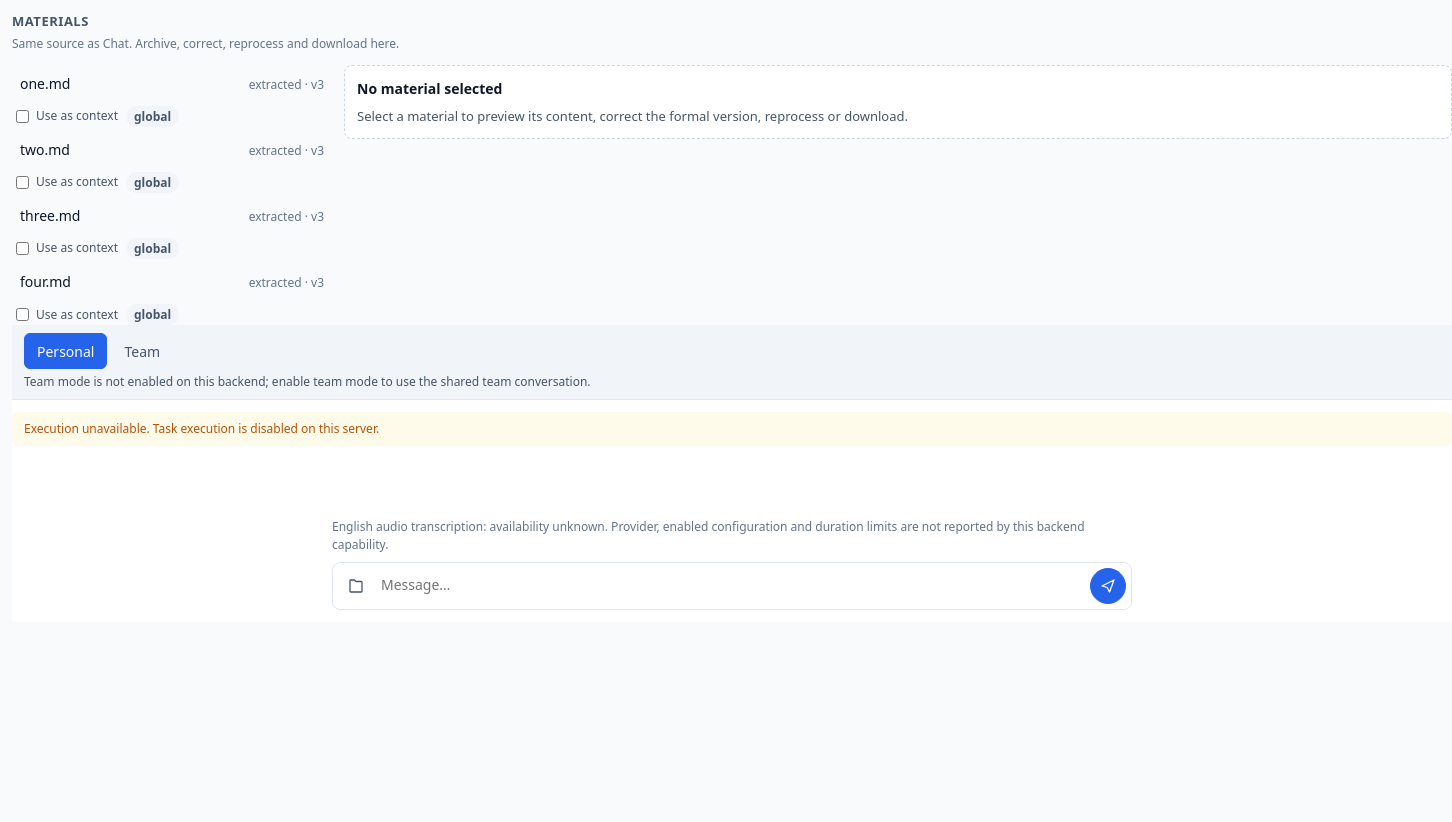
LG-204 Tasks material selection › enforces the shared 3-source limit across the Tasks entry
Click the 1st checkbox labelled "Use as context": (22, 116) 16,110 -> 29,123
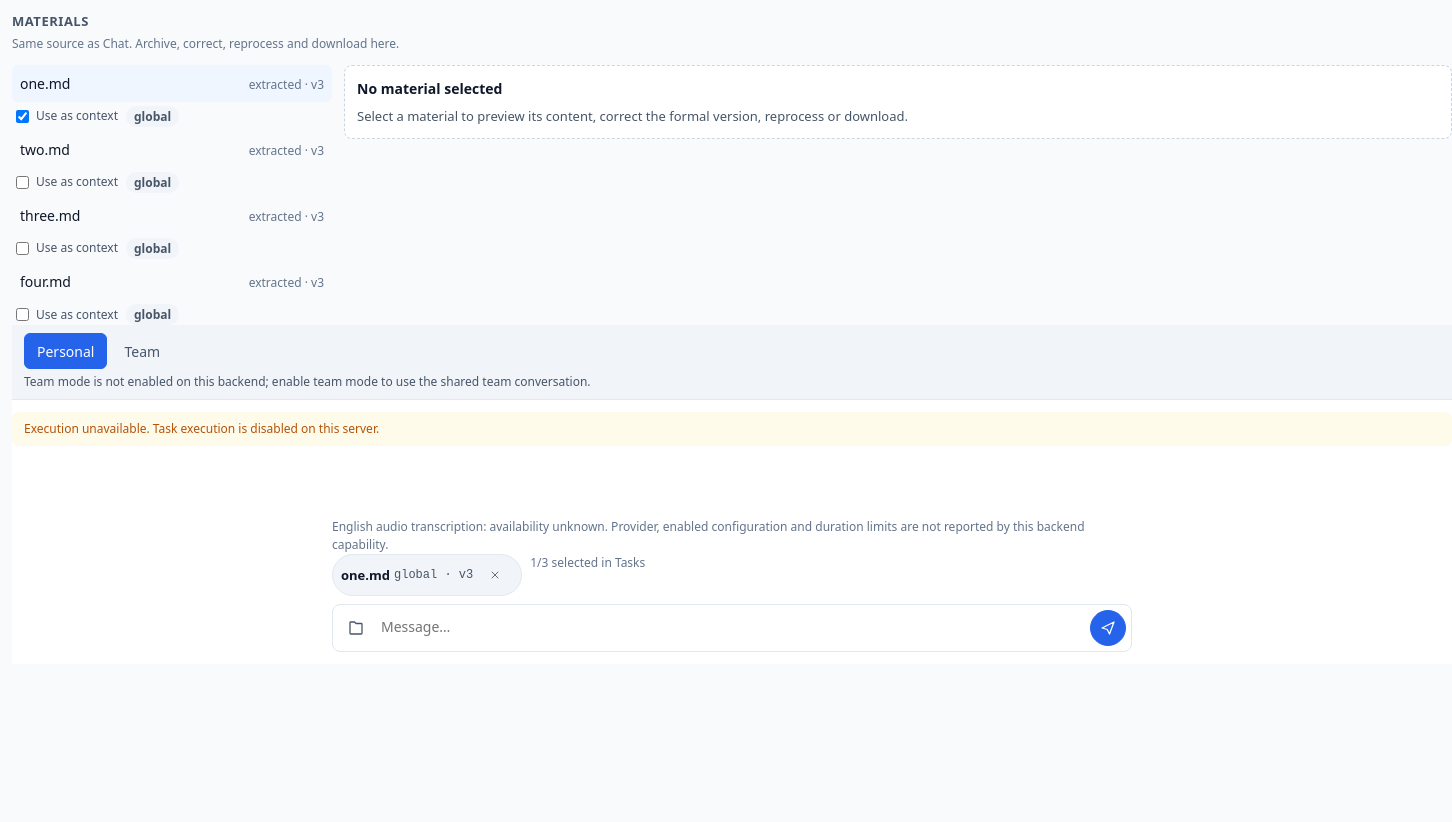
Click the 2nd checkbox labelled "Use as context": (22, 182) 16,176 -> 29,189
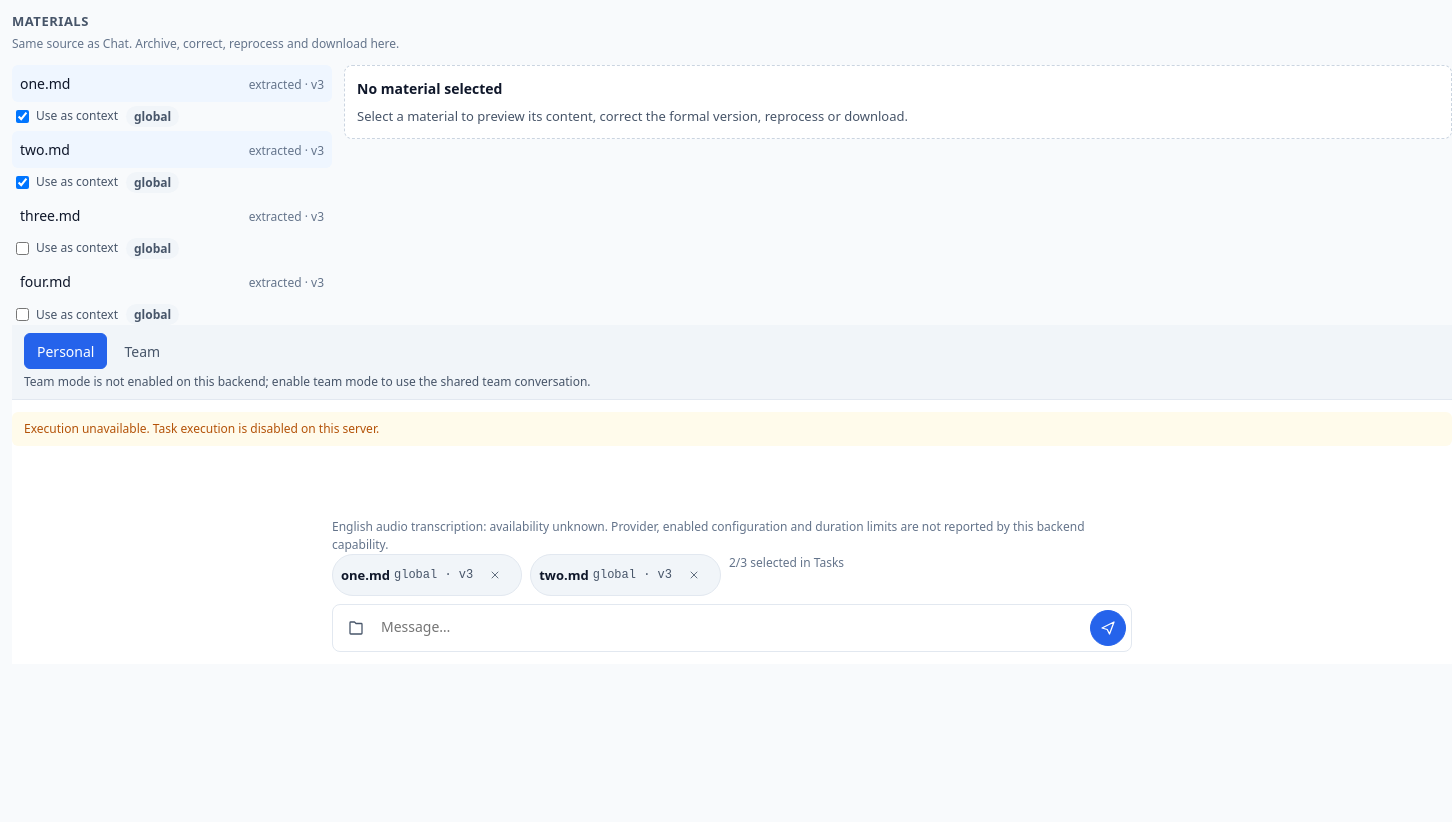
Click the 3rd checkbox labelled "Use as context": (22, 248) 16,242 -> 29,255
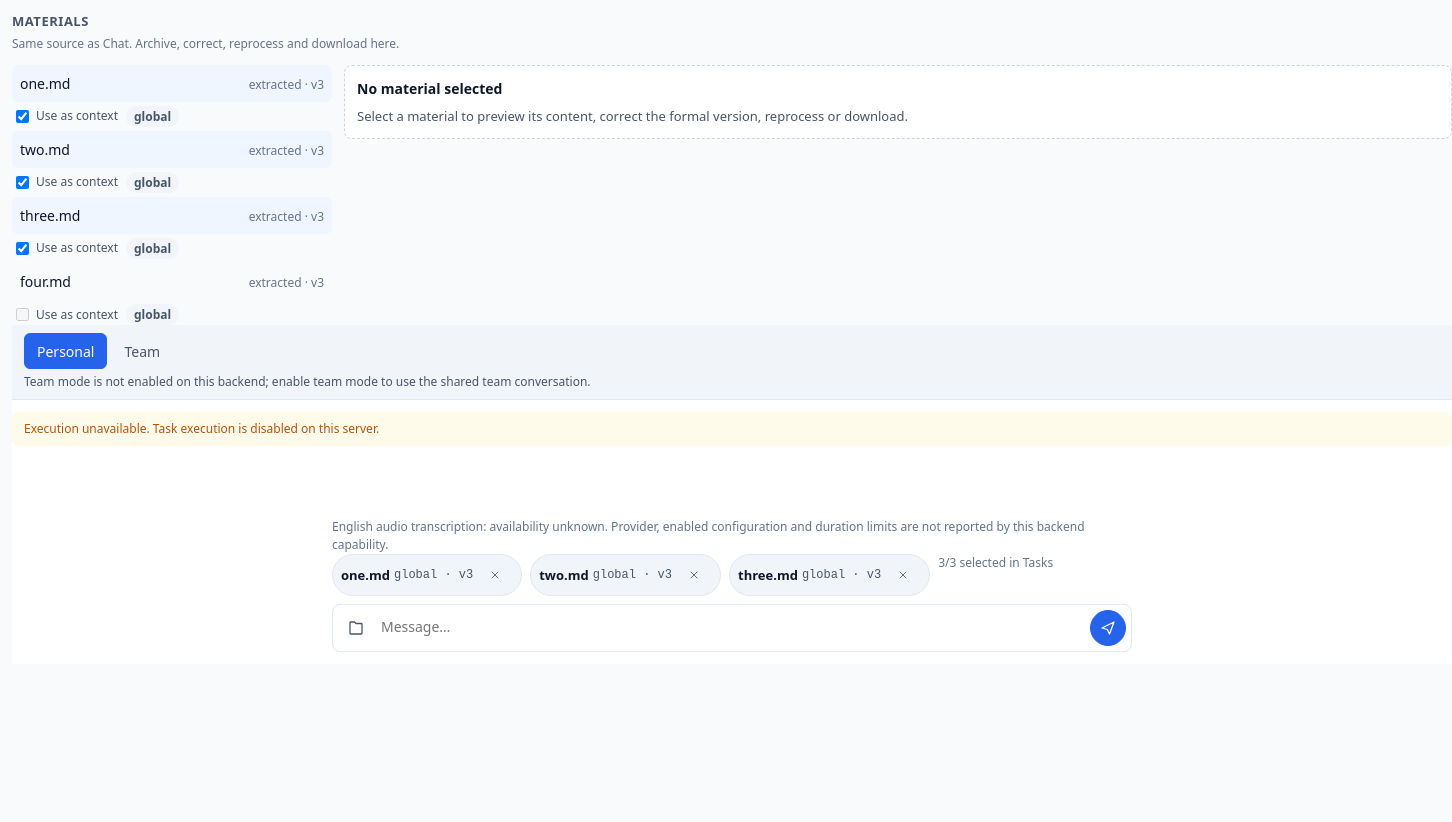
Result: the list item "3/3 selected in Tasks" is shown at 938,554 -> 1053,571
Result: the checkbox named "Use four.md as context" is disabled at 16,308 -> 29,321
